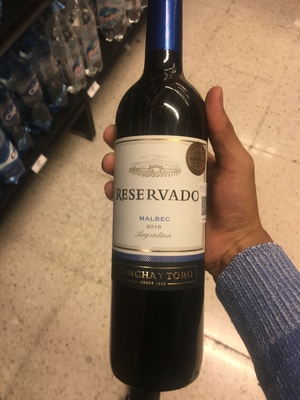reservado malbec: (102, 10, 216, 380)
